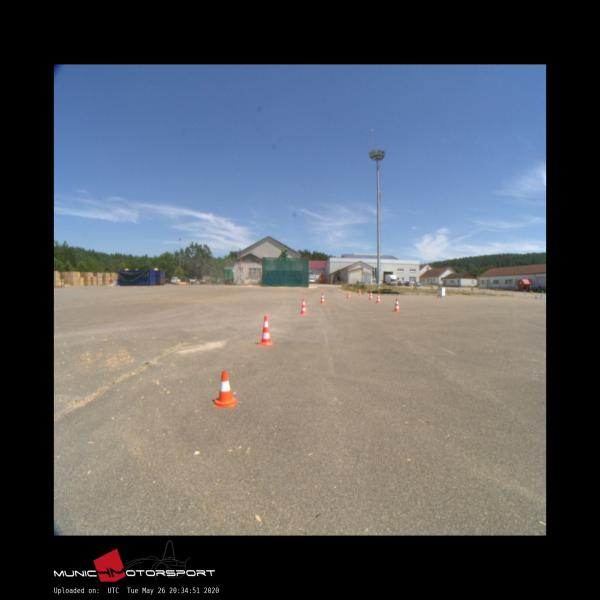large_orange_cone: (259, 316, 273, 346), (300, 298, 306, 314), (394, 298, 400, 312), (320, 292, 325, 304), (346, 290, 351, 298), (369, 291, 373, 300), (376, 294, 380, 302), (358, 288, 362, 296)
orange_cone: (214, 370, 236, 408)
